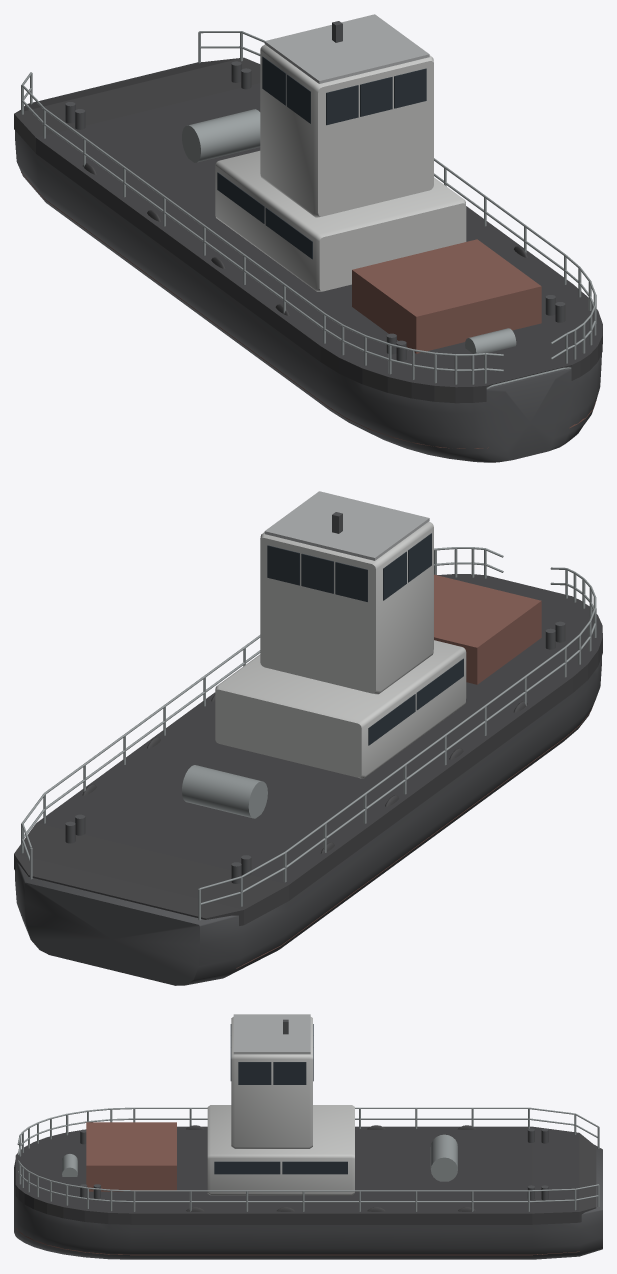
Rendered from vessel-tug.glb.
3 renders of one model, top to bottom at view 1: azimuth 30°, elevation 25°; view 2: azimuth 150°, elevation 25°; view 3: azimuth 270°, elevation 25°, orthographic. The views are drawn at different scales.
Visible parts, largest first — view 1: vessel-tug; view 2: vessel-tug; view 3: vessel-tug.
Boxes of the visible parts, bbox=[...] form: vessel-tug: bbox=[14, 14, 602, 462]; vessel-tug: bbox=[14, 491, 602, 985]; vessel-tug: bbox=[14, 1014, 602, 1259].
Bounding box in the file's own units: 9.08 × 10 × 26.
